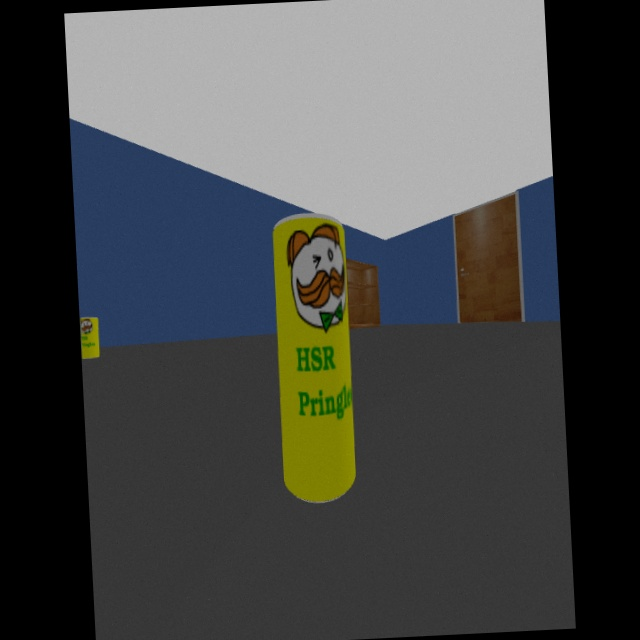chipsdose_gelb: (273, 213, 357, 503), (78, 317, 100, 359)
